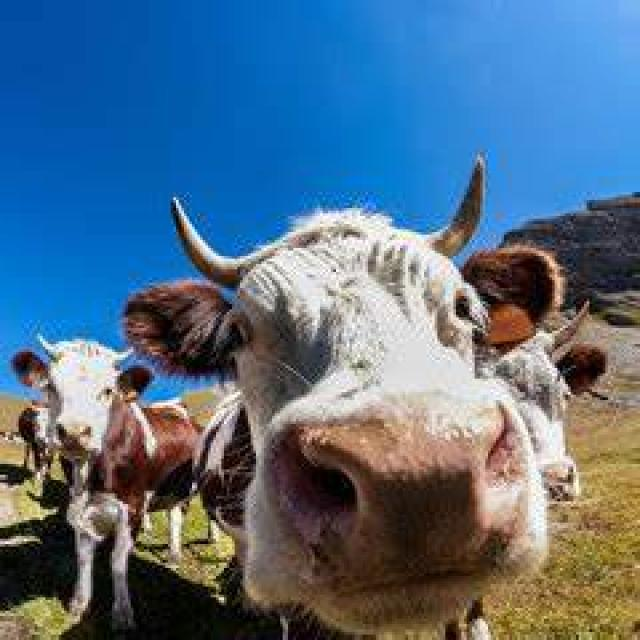cow: (120, 155, 608, 640), (13, 339, 155, 584)
